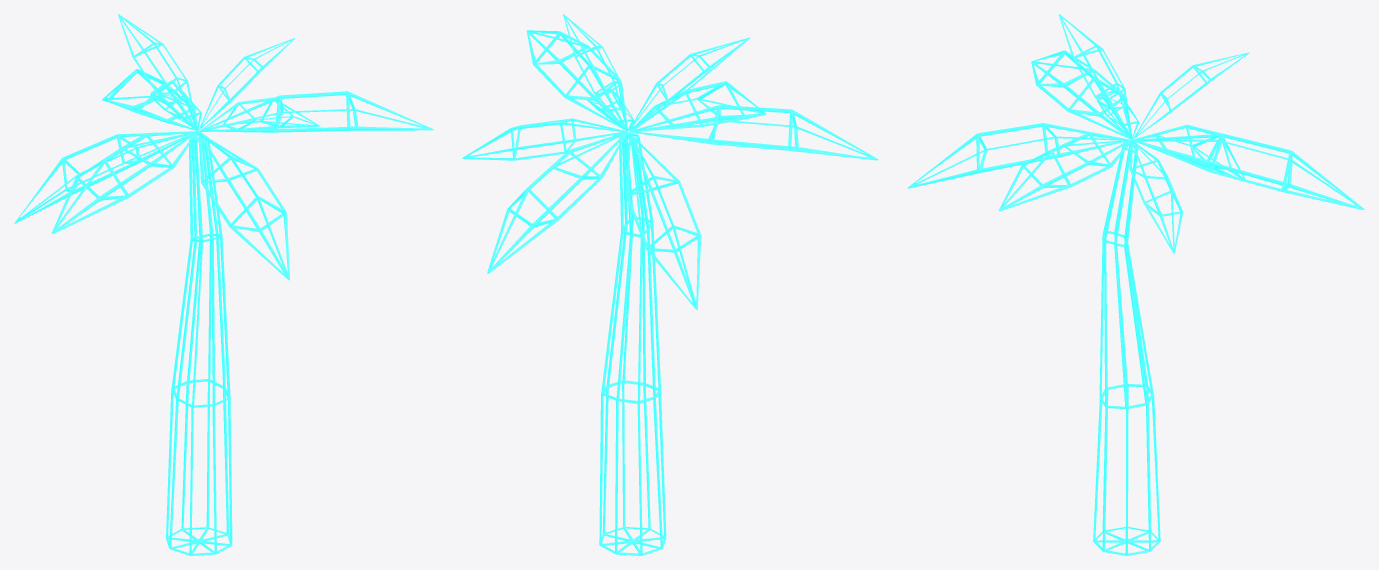
Rendered from Evn_Plam_tree_02.fbx.
3 renders of one model, left to right at view 1: azimuth 30°, elevation 25°; view 2: azimuth 150°, elevation 25°; view 3: azimuth 270°, elevation 25°, orthographic. The views are drawn at different scales.
Visible parts, largest first — view 1: Evn_Plam_tree_02.001; view 2: Evn_Plam_tree_02.001; view 3: Evn_Plam_tree_02.001.
Part boxes in pixels (<box>): Evn_Plam_tree_02.001: <box>14,14,433,555</box>; Evn_Plam_tree_02.001: <box>462,14,878,555</box>; Evn_Plam_tree_02.001: <box>907,14,1364,555</box>.
Bounding box in the file's own units: 11.11 × 14.4 × 12.2.
